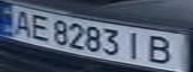2: (66, 20, 87, 52)
3: (100, 26, 124, 59)
8: (48, 18, 72, 47), (81, 24, 103, 54)
A: (6, 7, 36, 37)
B: (142, 33, 184, 66)
E: (24, 12, 54, 42)
I: (121, 29, 148, 61)
